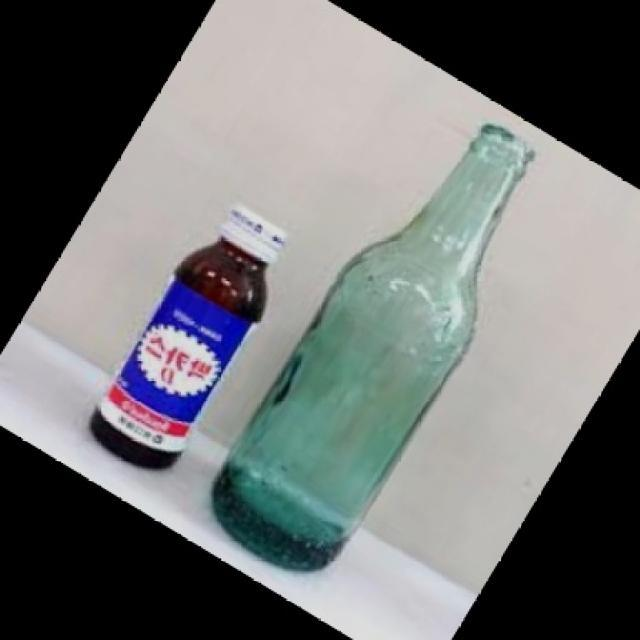Glass: (211, 124, 536, 572), (89, 203, 288, 470)
